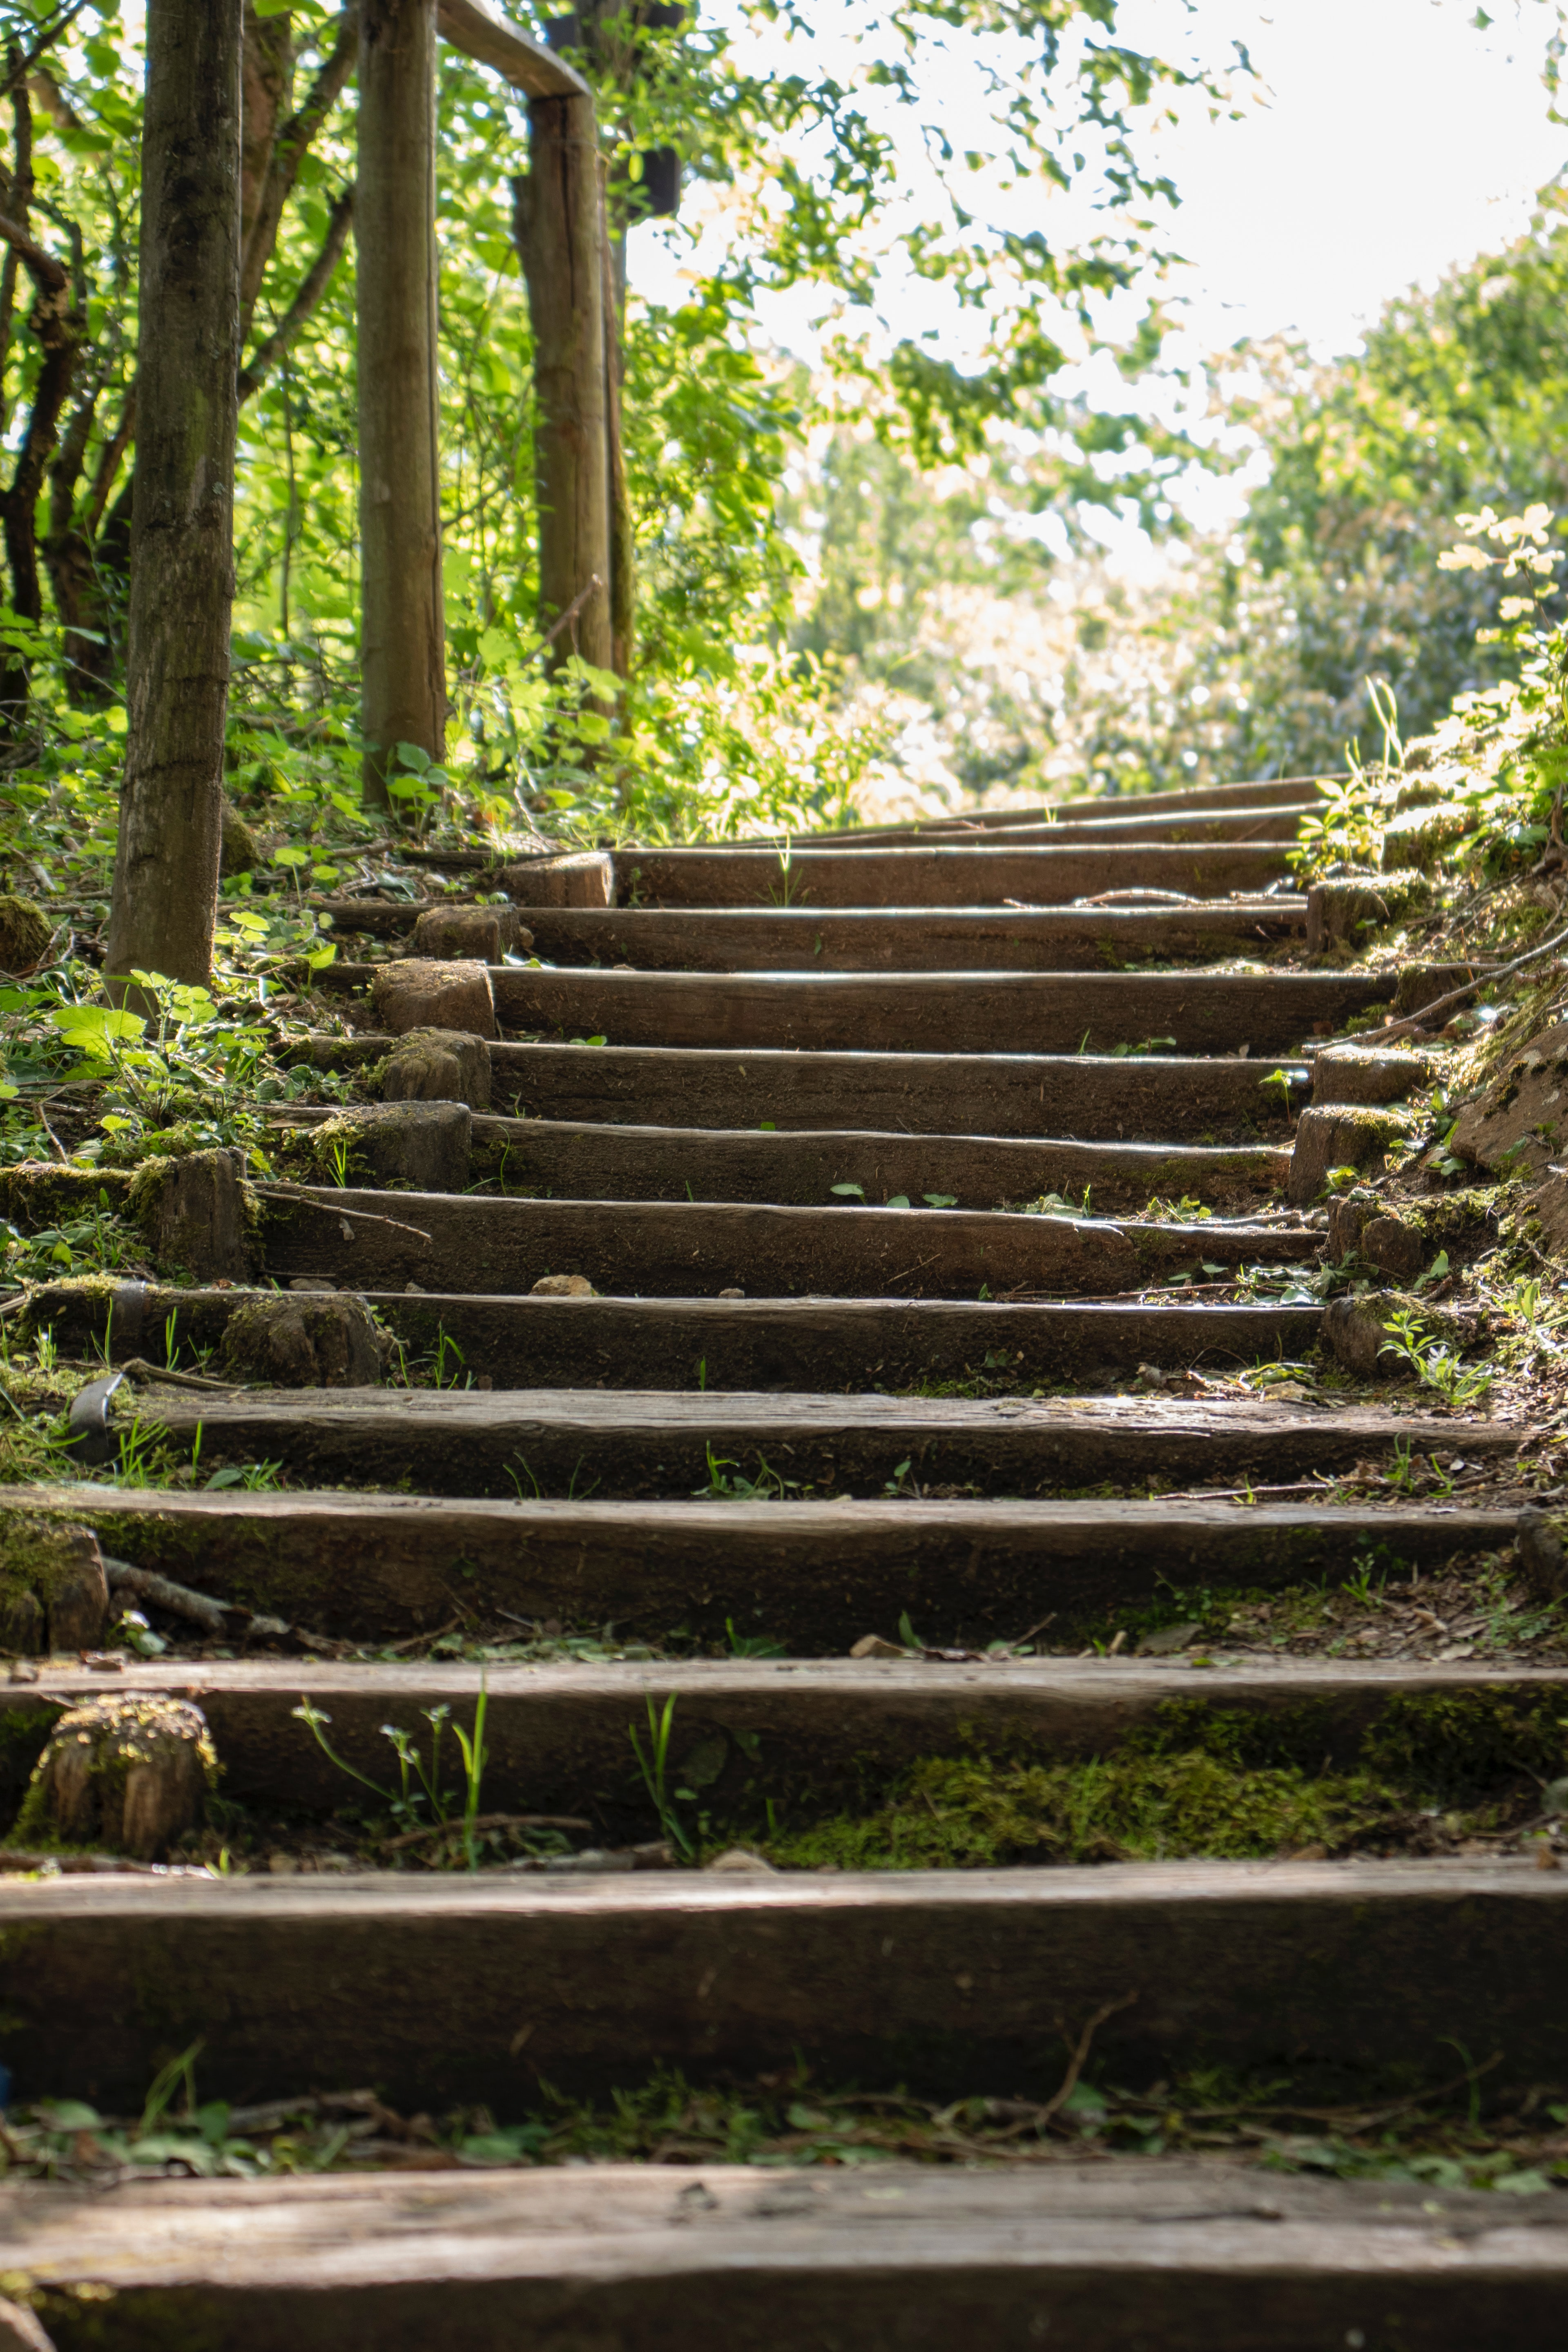upstairs: (124, 1242, 1451, 2352)
